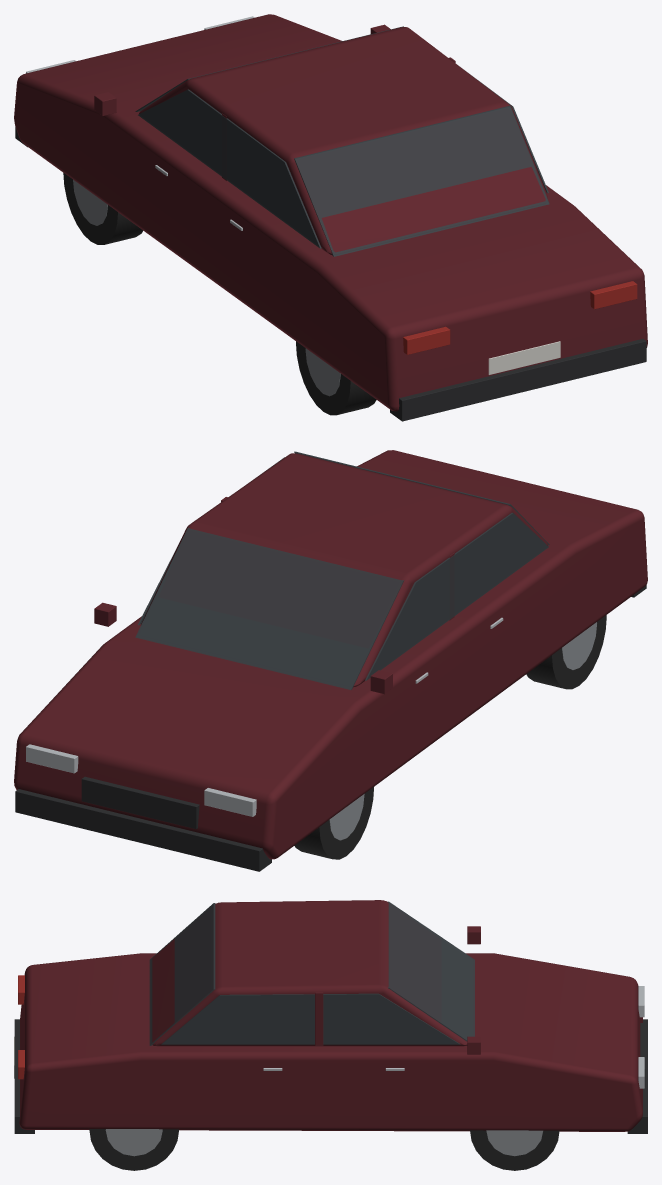
Rendered from veh_car_sedan_wine.glb.
The picture shows the model from 3 angles, top to bottom: view 1: azimuth 30°, elevation 25°; view 2: azimuth 150°, elevation 25°; view 3: azimuth 270°, elevation 25°; orthographic projection. The views are drawn at different scales.
Visible parts, largest first — view 1: Car; view 2: Car; view 3: Car.
Part boxes in pixels (box(x1,y1,x2,y2)): Car: box(14, 14, 647, 421); Car: box(14, 450, 647, 871); Car: box(14, 900, 647, 1170).
Size of what is drawn, in the model's own units: 2.02 by 1.44 by 4.66.
